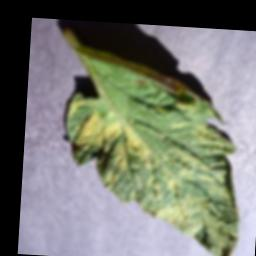Leaf_Mold: (60, 94, 157, 194)
